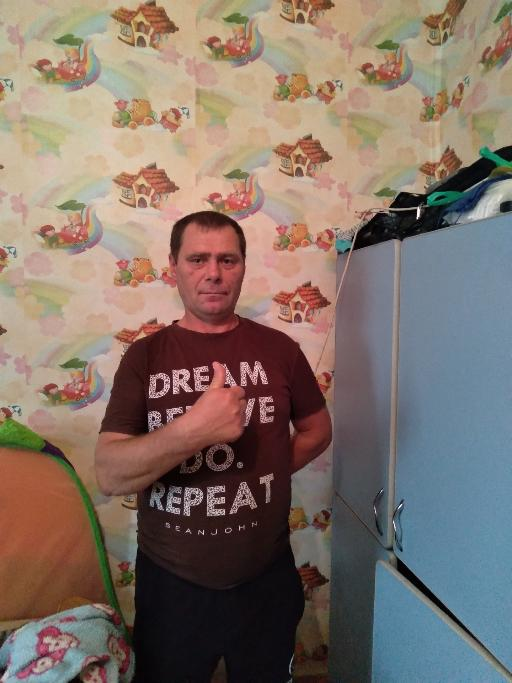like: (188, 359, 248, 446)
